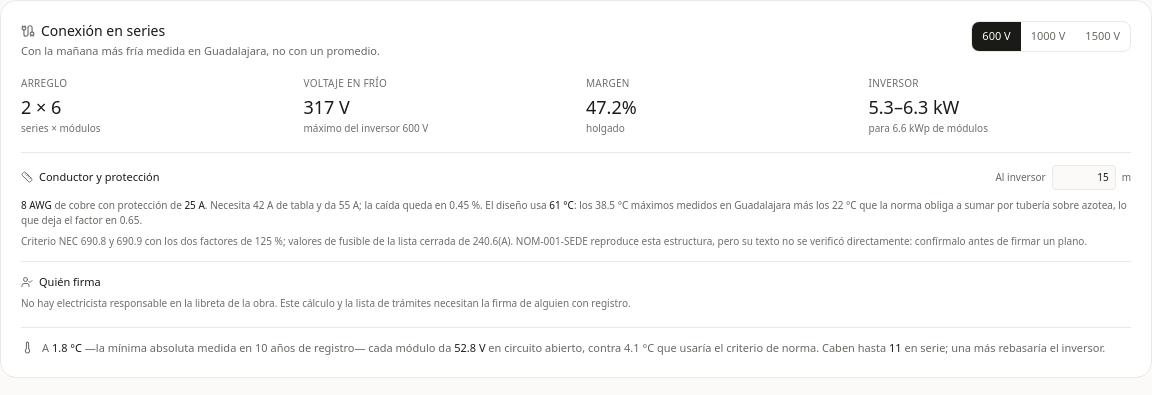
Test case: los metros hasta el inversor › con Escape se descarta lo tecleado
Step 1. Replace the text in the field named "Metros de una vía" with "77" → (1084, 177), box left=1052, top=164, right=1116, bottom=190
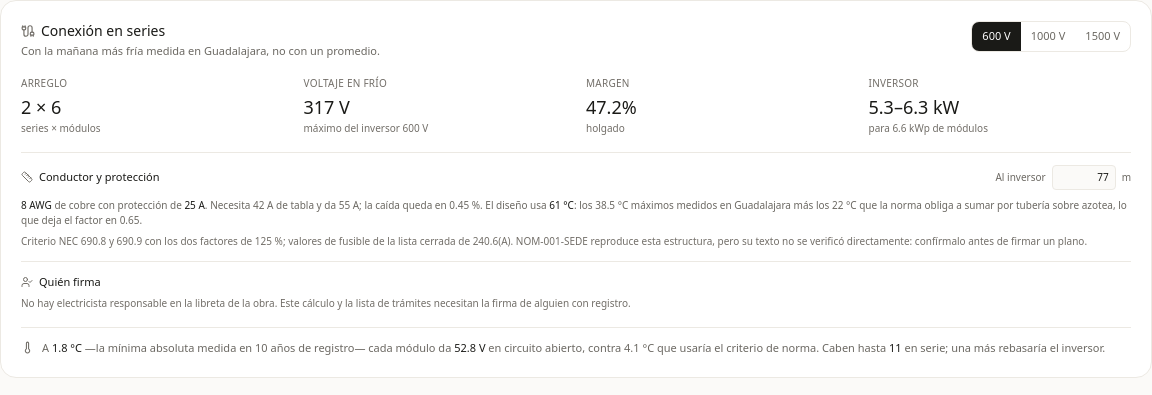
Step 2. Press Escape in the field named "Metros de una vía", box left=1052, top=164, right=1116, bottom=190
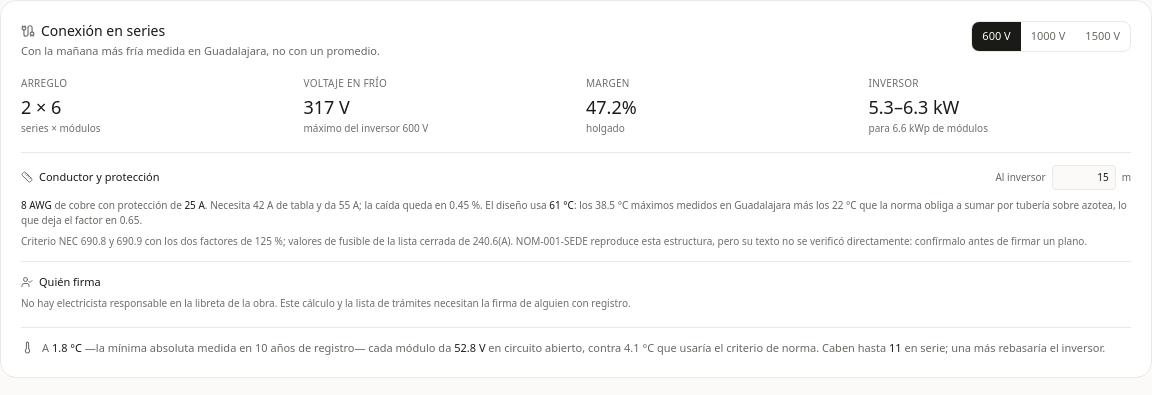
Now the field named "Metros de una vía" holds "15", box left=1052, top=164, right=1116, bottom=190
